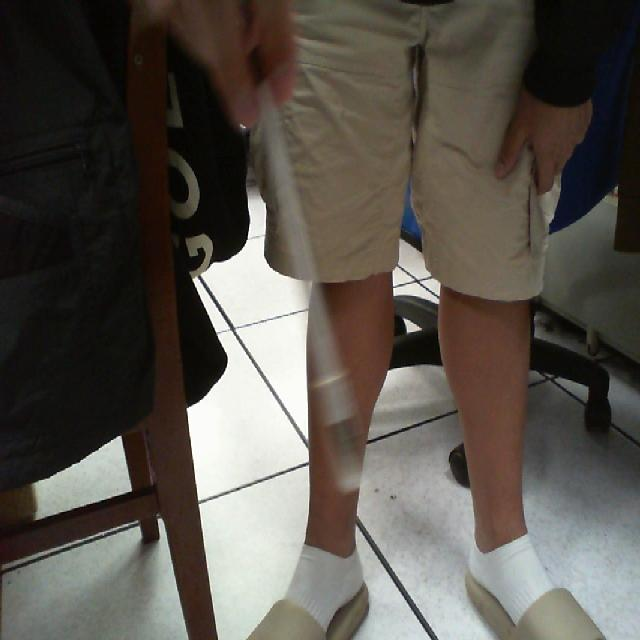Pen: (244, 33, 378, 527)
